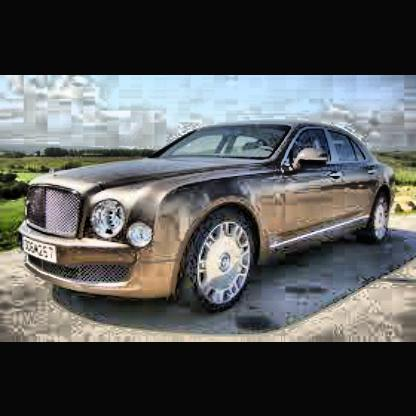Bentley Mulsanne Sedan 2011: (21, 121, 401, 321)
